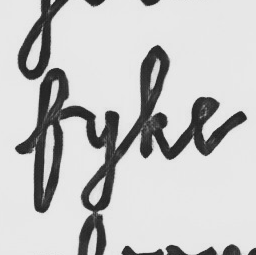e: (189, 94, 229, 157)
f: (32, 65, 71, 215)
k: (135, 43, 175, 160)
y: (78, 106, 123, 213)
